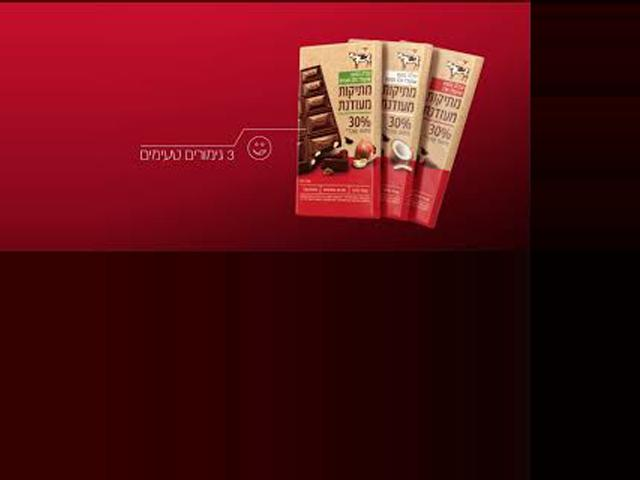chocolate: (391, 36, 482, 234)
